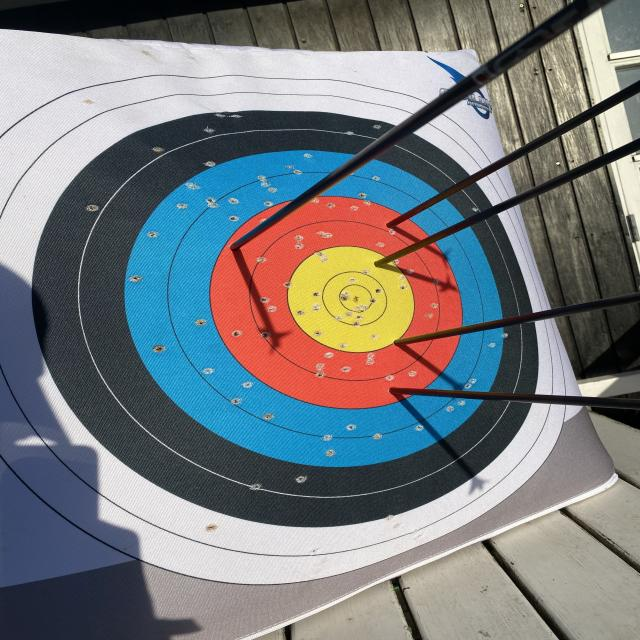Arrow_Red: (377, 375, 456, 405), (385, 330, 448, 358), (212, 233, 264, 265), (375, 208, 417, 243)
Arrow_Yellow: (357, 244, 417, 282)
